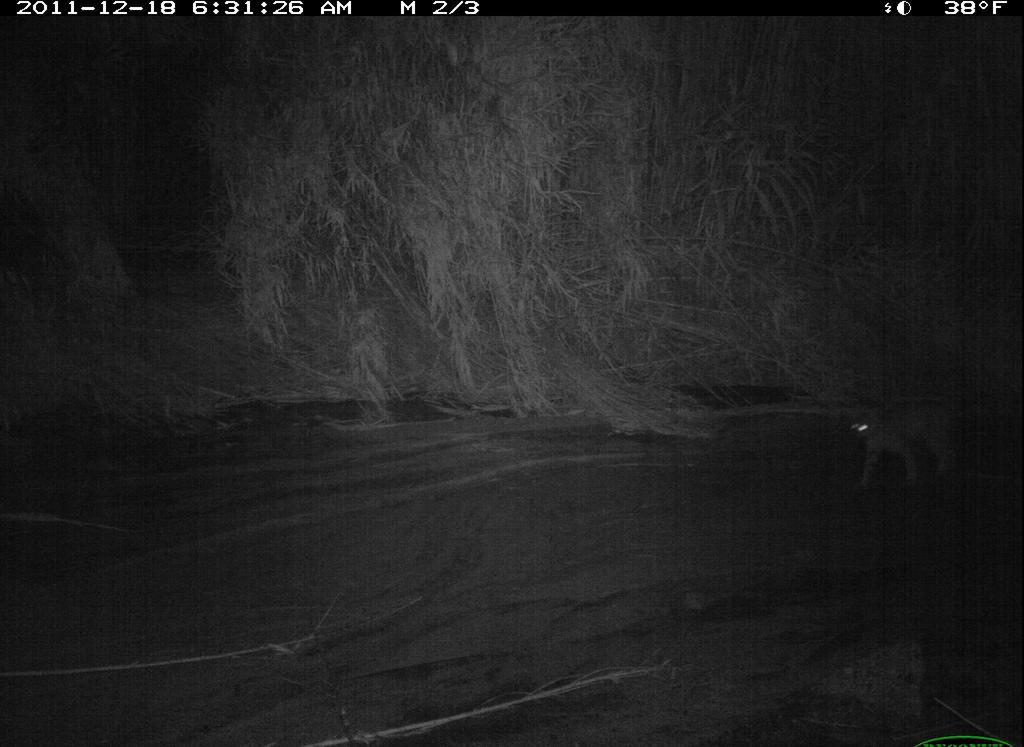bobcat: (835, 386, 1009, 507)
